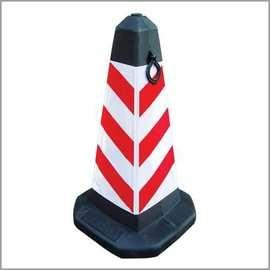cone_barrel: (74, 10, 194, 250)
